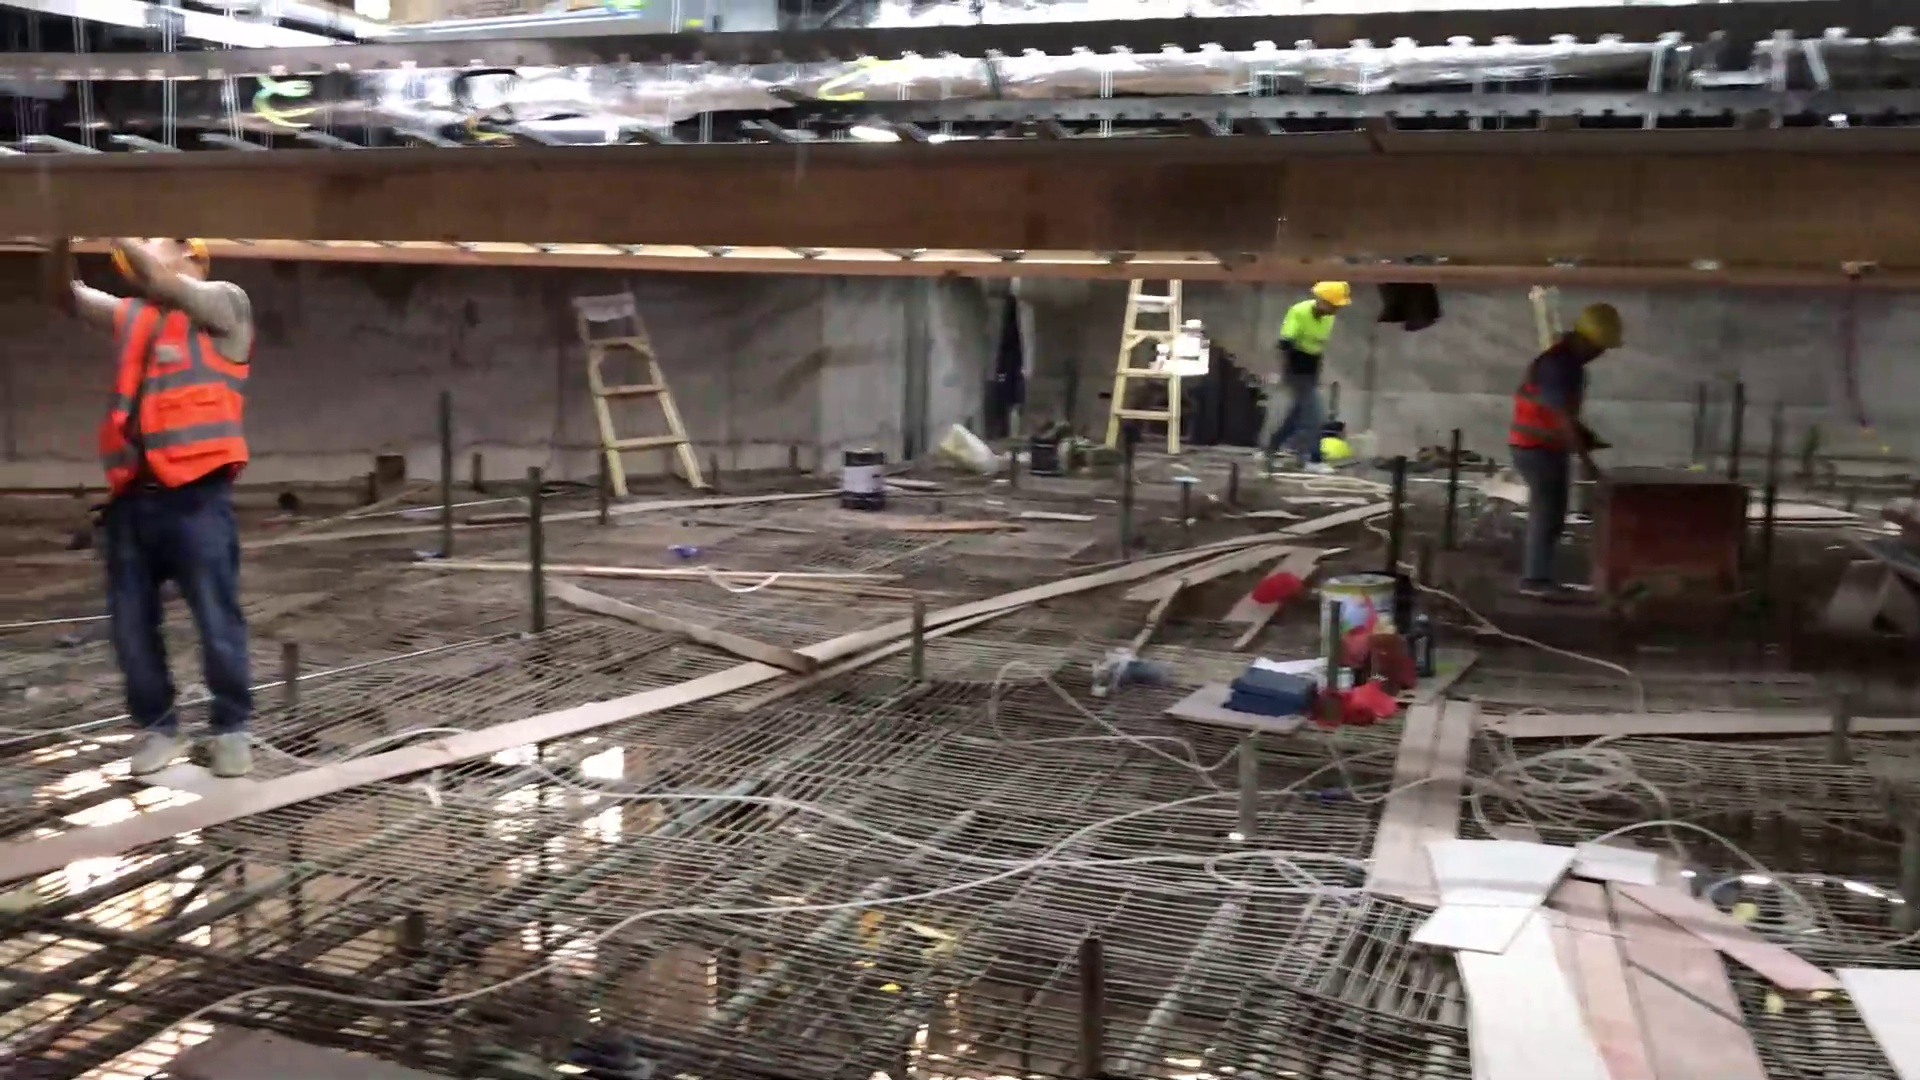helmet: (1574, 301, 1631, 347), (1307, 276, 1356, 308), (1318, 431, 1354, 462)
person: (50, 215, 259, 774), (1491, 289, 1615, 618), (1289, 258, 1348, 483)
vest: (111, 295, 254, 489), (1512, 336, 1584, 453)
